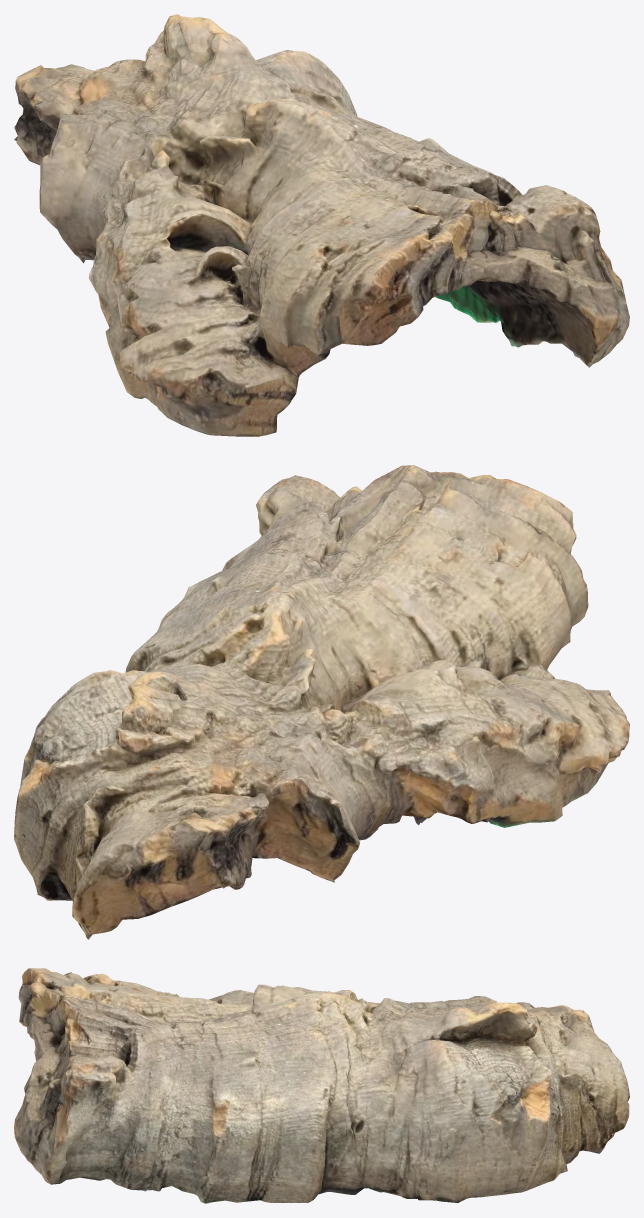
Rendered from cork1.glb.
3 renders of one model, top to bottom at view 1: azimuth 30°, elevation 25°; view 2: azimuth 150°, elevation 25°; view 3: azimuth 270°, elevation 25°, orthographic. The views are drawn at different scales.
Visible parts, largest first — view 1: Object_4; view 2: Object_4; view 3: Object_4.
Part boxes in pixels (left/top/right/bottom): Object_4: left=14, top=14, right=629, bottom=436; Object_4: left=14, top=465, right=629, bottom=939; Object_4: left=14, top=968, right=629, bottom=1203.
Bounding box in the file's own units: 0.1841 × 0.0889 × 0.2968.
1 material, 1 textured.
